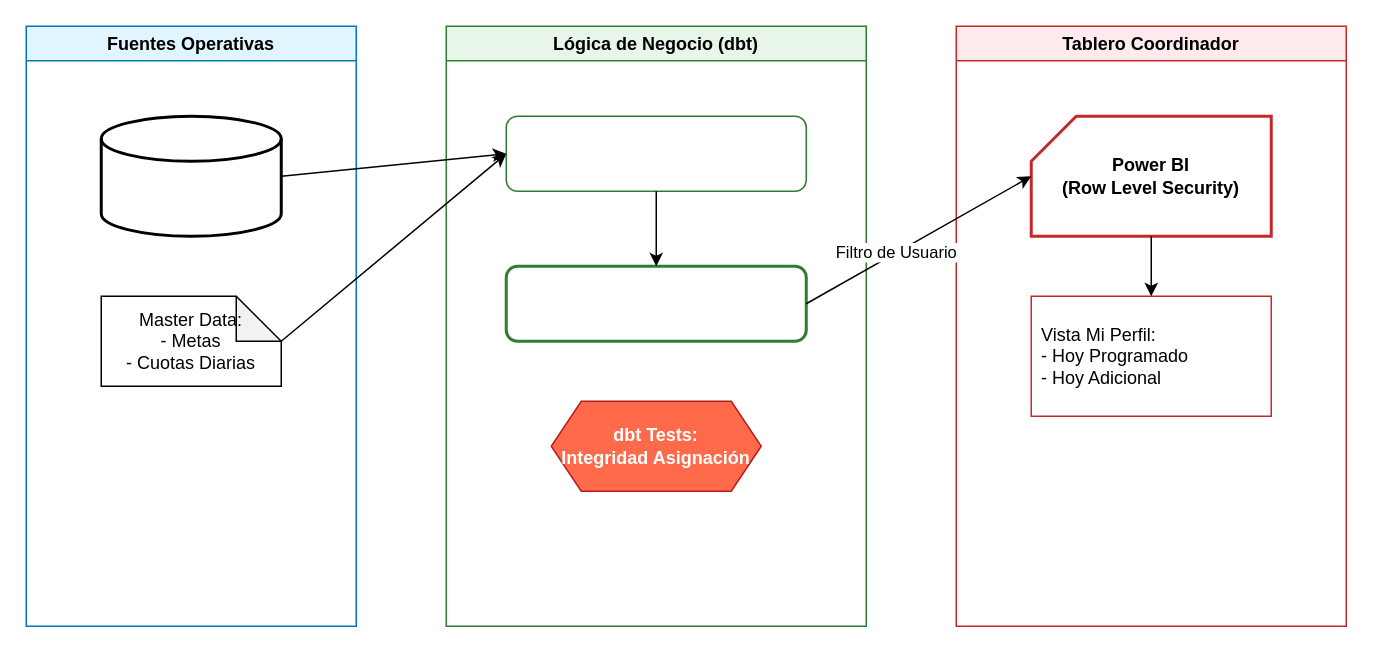
This 1373x653 diagram has some shape labels left out. Here are the shapes that lost their labels. From the top down, the centre of each, then its label:
At (x=655, y=153): "Normalización Nombres (Staging)".
At (x=190, y=175): "SQL Server (Usuarios/Roles)".
At (x=655, y=303): "Cálculo Agregado (Marts)".
